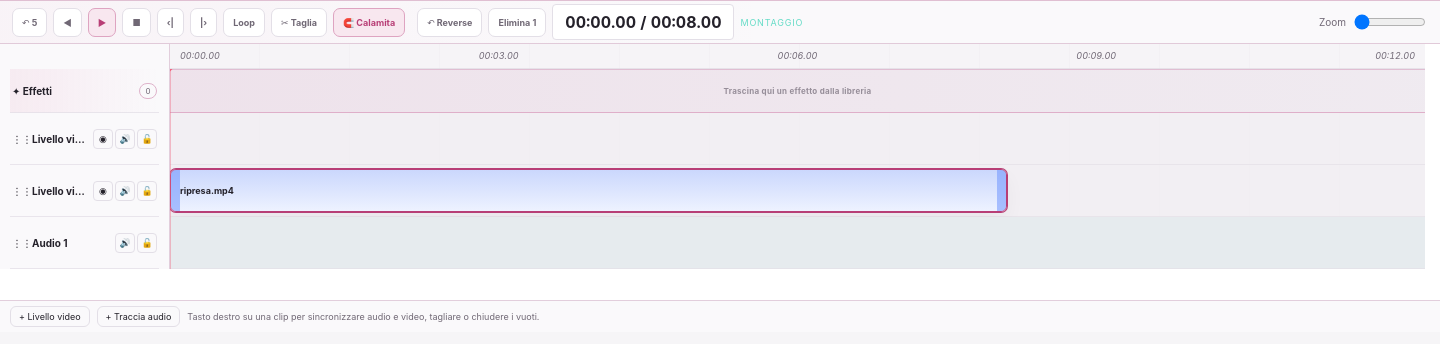
Scenario: VideoEditorTimeline · trim dei fermi immagine › segnala sulla timeline una clip riprodotta al contrario
Check: the element named "Riproduci clip selezionata al contrario" is shown, box [0,1,1439,44]
What coordinates should you click on to do the following:
click the button with aria-label "Riproduci clip selezionata al contrario"
I would click on:
 (450, 22)
Its box is [417,8,482,36].
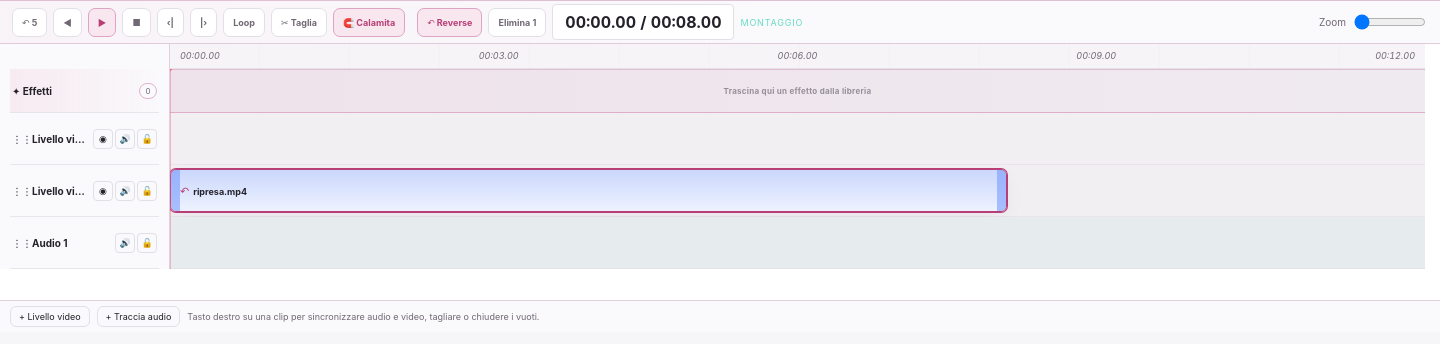
Check: the text named "Riproduzione inversa" reads "↶", box [180,184,189,198]
